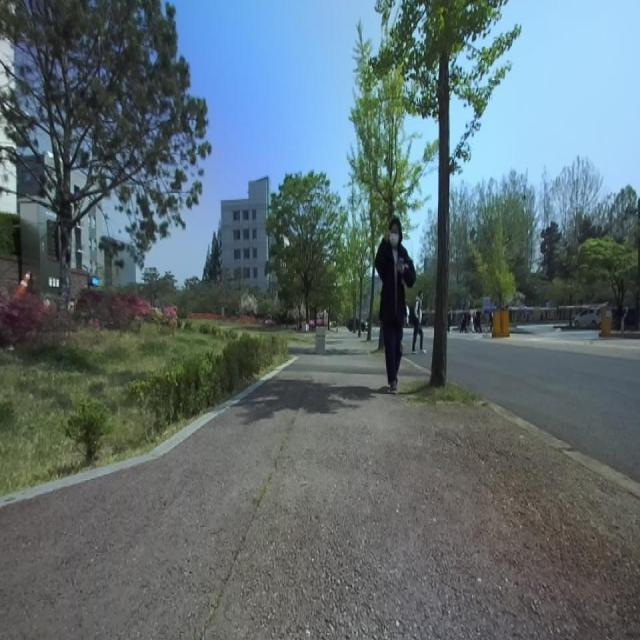sidewalk: (0, 332, 640, 639), (481, 401, 640, 497), (394, 356, 430, 398)
